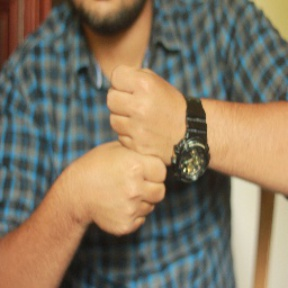G: (87, 63, 184, 236)
